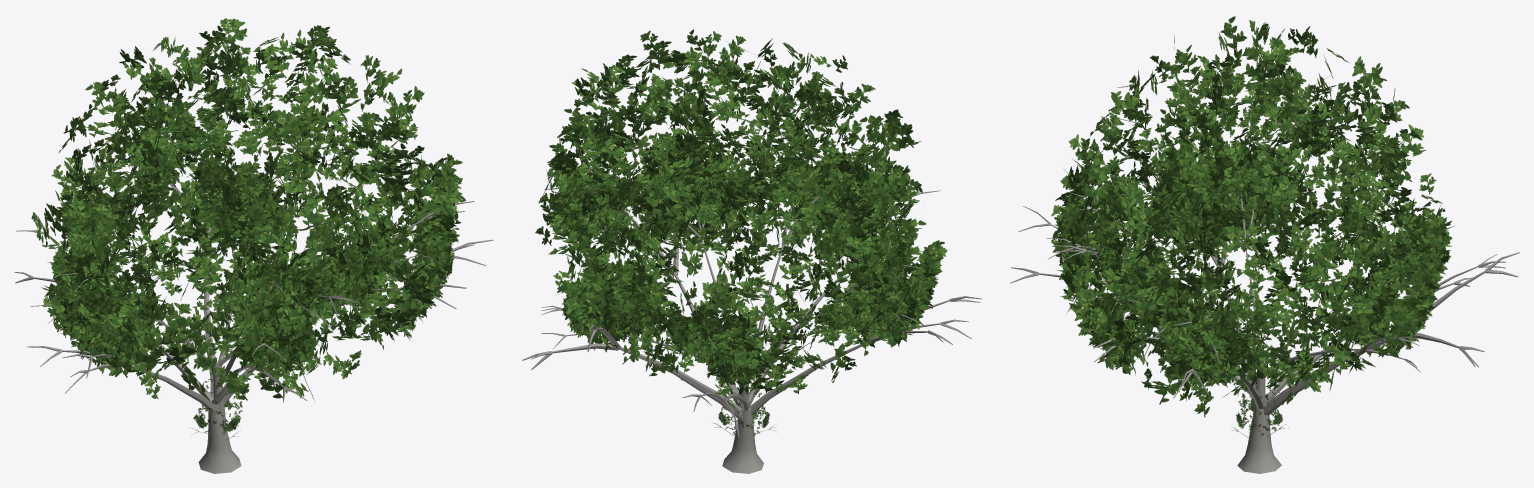
Rendered from beech.glb.
3 renders of one model, left to right at view 1: azimuth 30°, elevation 25°; view 2: azimuth 150°, elevation 25°; view 3: azimuth 270°, elevation 25°, orthographic. The views are drawn at different scales.
Parts seen in each view (by area): view 1: beech_v2_LOD0, beech_v1_LOD0, beech_v0_LOD0; view 2: beech_v2_LOD0, beech_v1_LOD0, beech_v0_LOD0; view 3: beech_v2_LOD0, beech_v1_LOD0, beech_v0_LOD0.
Boxes of the visible parts, x1,y1,x2,y2 form: beech_v2_LOD0: [14, 18, 493, 473]; beech_v1_LOD0: [30, 79, 446, 422]; beech_v0_LOD0: [189, 378, 242, 439]; beech_v2_LOD0: [522, 29, 981, 473]; beech_v1_LOD0: [540, 88, 921, 407]; beech_v0_LOD0: [711, 383, 777, 436]; beech_v2_LOD0: [1010, 16, 1519, 473]; beech_v1_LOD0: [1047, 70, 1420, 429]; beech_v0_LOD0: [1231, 379, 1288, 438].
Size of what is drawn, in the model's own units: 37.42 by 35.6 by 37.66.
2 materials, 1 textured.
